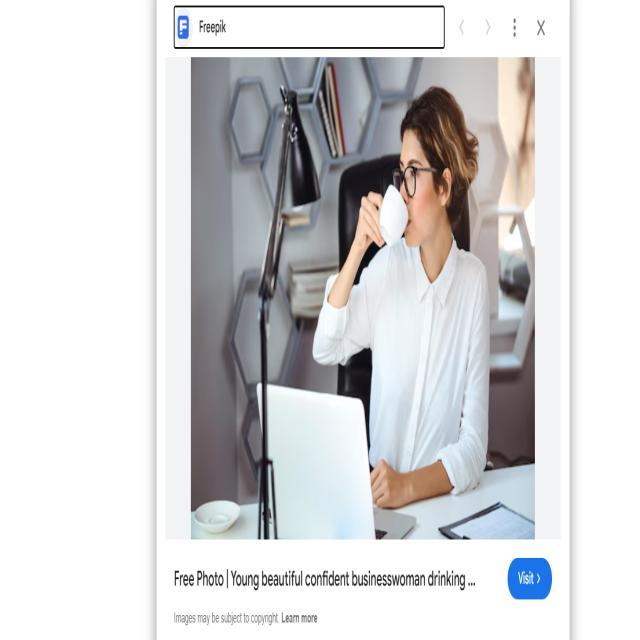face_no_mask: (397, 127, 450, 243)
